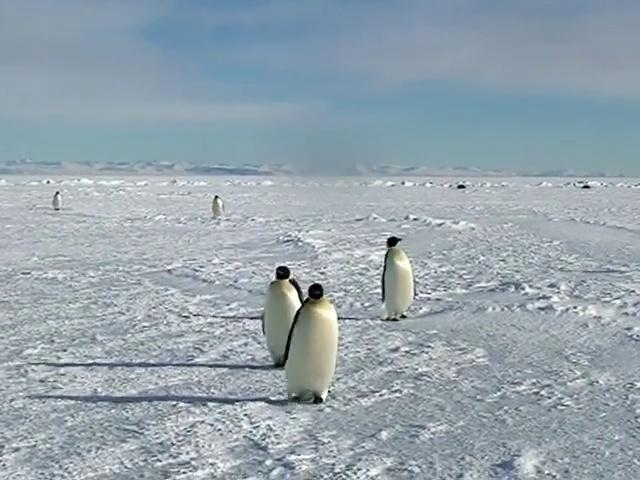animal: (382, 236, 414, 319)
